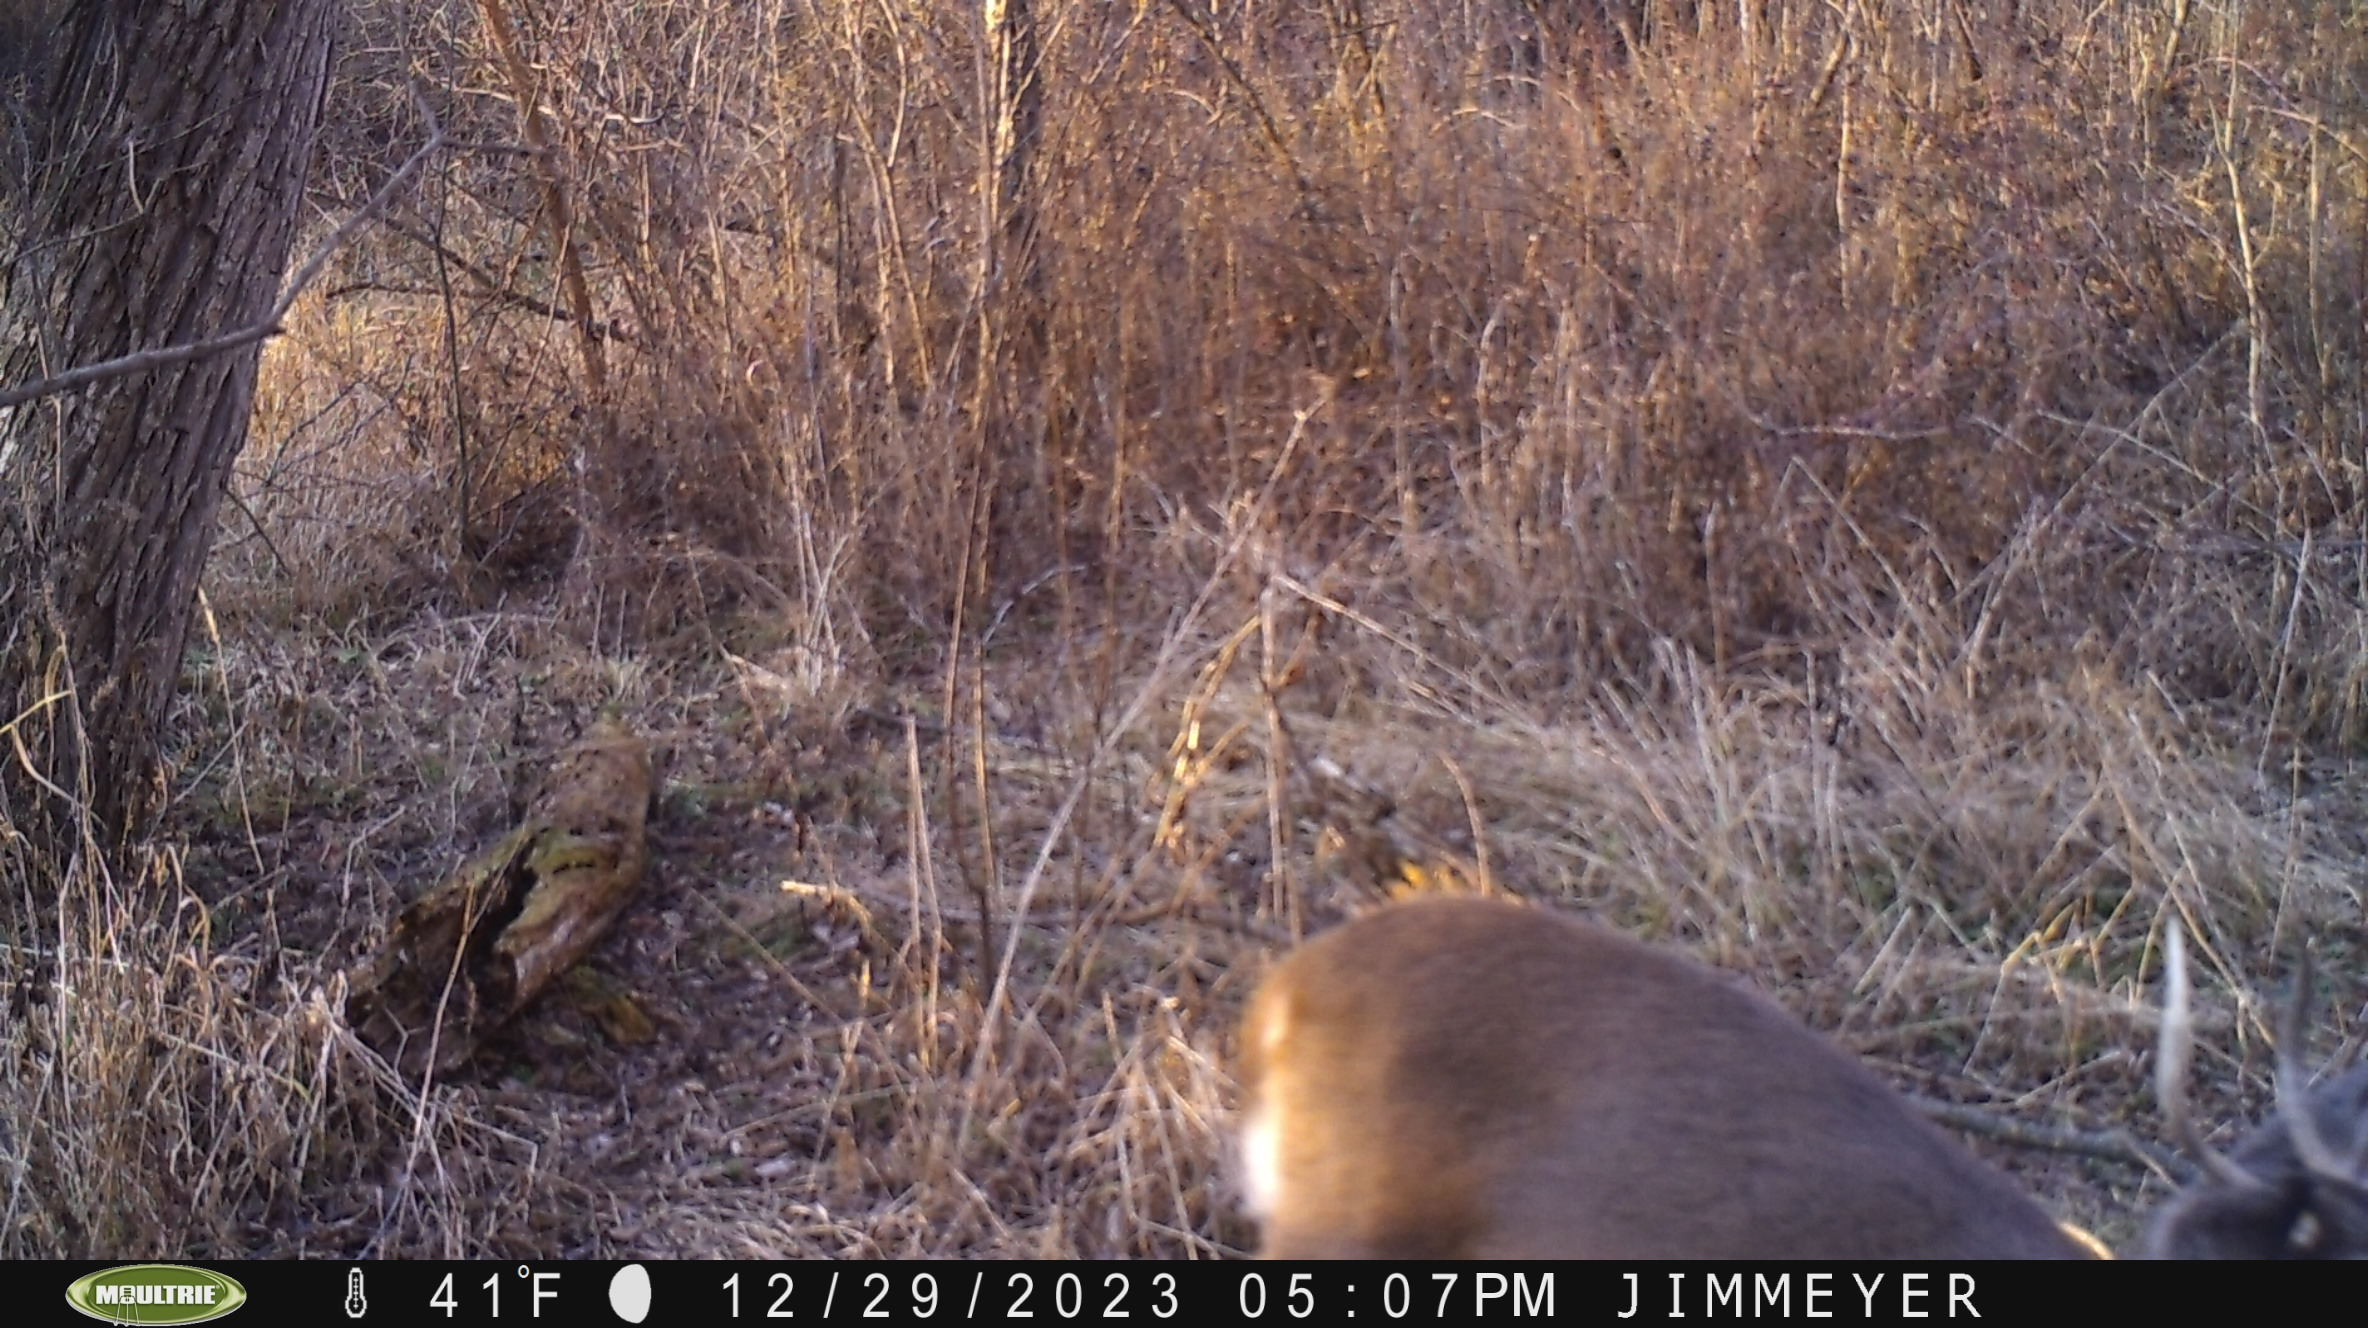DeerBuck: (1230, 878, 2368, 1261)
DeerBuckHead: (2126, 906, 2367, 1262)
